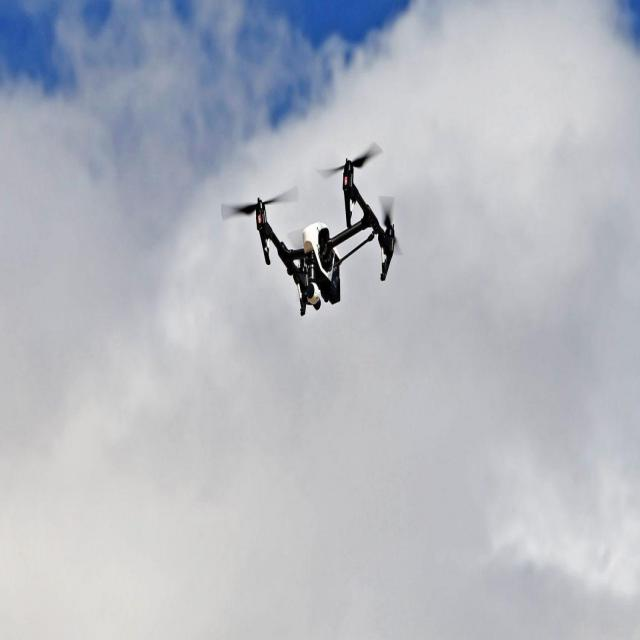UAV: (250, 146, 400, 324)
